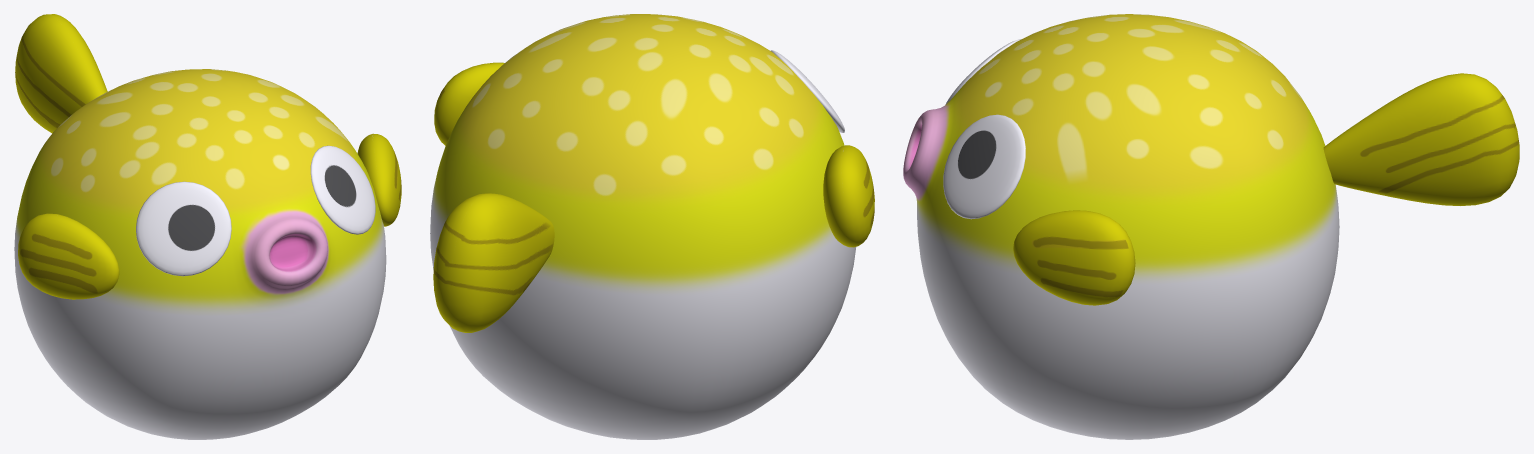
File: hugu2.fbx
The picture shows the model from 3 angles, left to right: view 1: azimuth 30°, elevation 25°; view 2: azimuth 150°, elevation 25°; view 3: azimuth 270°, elevation 25°; orthographic projection. The views are drawn at different scales.
Visible parts, largest first — view 1: Cube, Sphere, Cube.001, Cube.002; view 2: Cube, Cube.002, Cube.001, Sphere; view 3: Cube, Cube.002, Cube.001, Sphere.
Boxes of the visible parts, box(x1,y1,x2,y2) form: Cube: box(14, 69, 386, 439); Sphere: box(136, 145, 375, 276); Cube.001: box(18, 133, 401, 299); Cube.002: box(15, 14, 107, 133); Cube: box(430, 14, 856, 439); Cube.002: box(433, 193, 554, 332); Cube.001: box(434, 62, 874, 247); Sphere: box(771, 50, 844, 132); Cube: box(903, 14, 1339, 439); Cube.002: box(1323, 73, 1519, 205); Cube.001: box(1013, 210, 1135, 305); Sphere: box(943, 39, 1025, 219).
Size of the model in its own units: 188 by 160 by 235.
